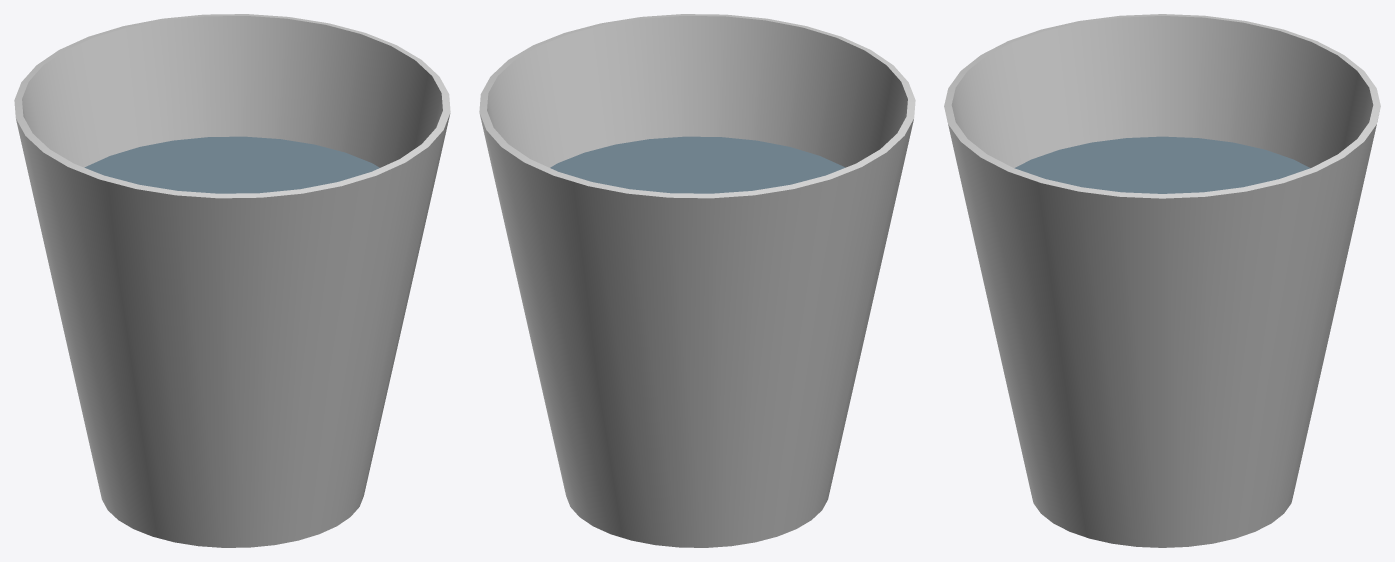
The model's file is चषक.gltf.
3 renders of one model, left to right at view 1: azimuth 30°, elevation 25°; view 2: azimuth 150°, elevation 25°; view 3: azimuth 270°, elevation 25°, orthographic.
Parts seen in each view (by area): view 1: Cylinder, Cylinder.001; view 2: Cylinder, Cylinder.001; view 3: Cylinder, Cylinder.001.
Part boxes in pixels (bbox=[...]): Cylinder: bbox=[14, 14, 450, 547]; Cylinder.001: bbox=[84, 136, 379, 193]; Cylinder: bbox=[479, 14, 915, 547]; Cylinder.001: bbox=[550, 136, 845, 193]; Cylinder: bbox=[944, 14, 1380, 547]; Cylinder.001: bbox=[1014, 136, 1310, 193].
Bounding box in the file's own units: 2.07 × 2.03 × 2.07.
